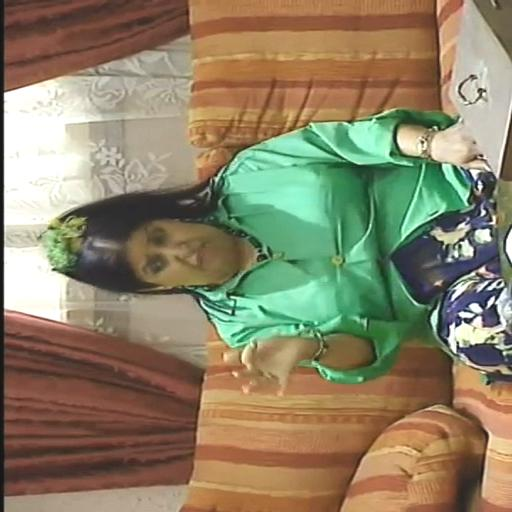jannet: (122, 220, 242, 289)
